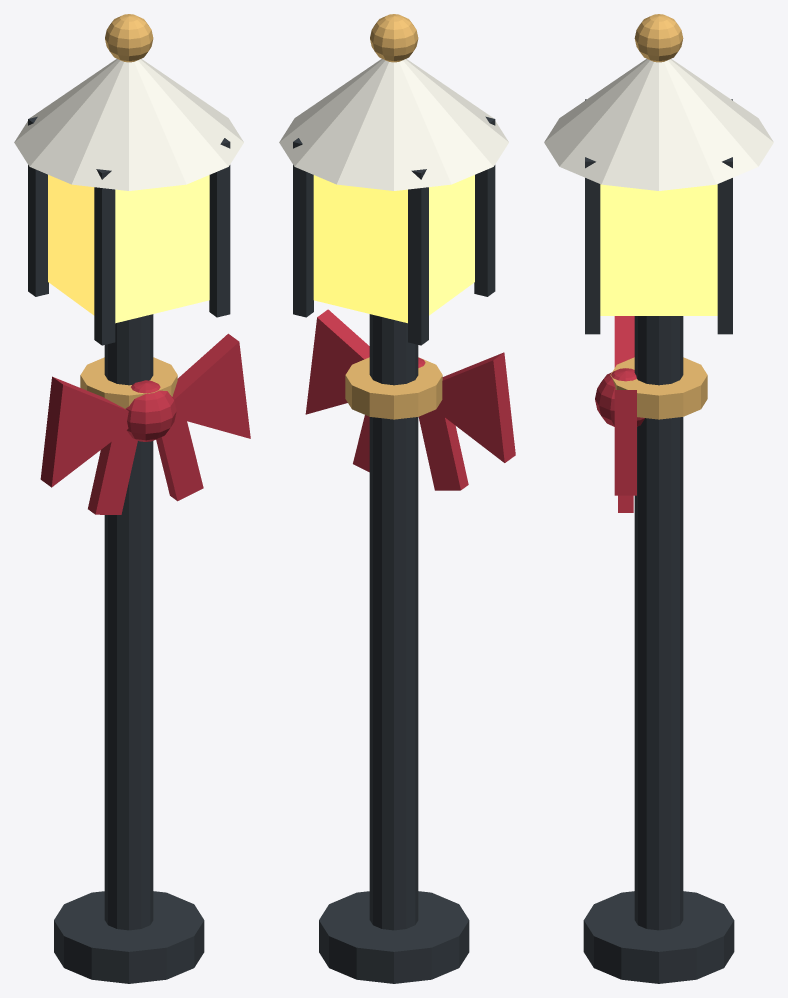
Rendered from lamp_b.glb.
3 renders of one model, left to right at view 1: azimuth 30°, elevation 25°; view 2: azimuth 150°, elevation 25°; view 3: azimuth 270°, elevation 25°, orthographic.
Visible parts, largest first — view 1: village-lamppost; view 2: village-lamppost; view 3: village-lamppost.
Boxes of the visible parts, <box> form: village-lamppost: <box>14,14,250,983</box>; village-lamppost: <box>279,14,515,983</box>; village-lamppost: <box>544,14,773,983</box>.
Size of the model in its own units: 0.52 by 2.33 by 0.52.
